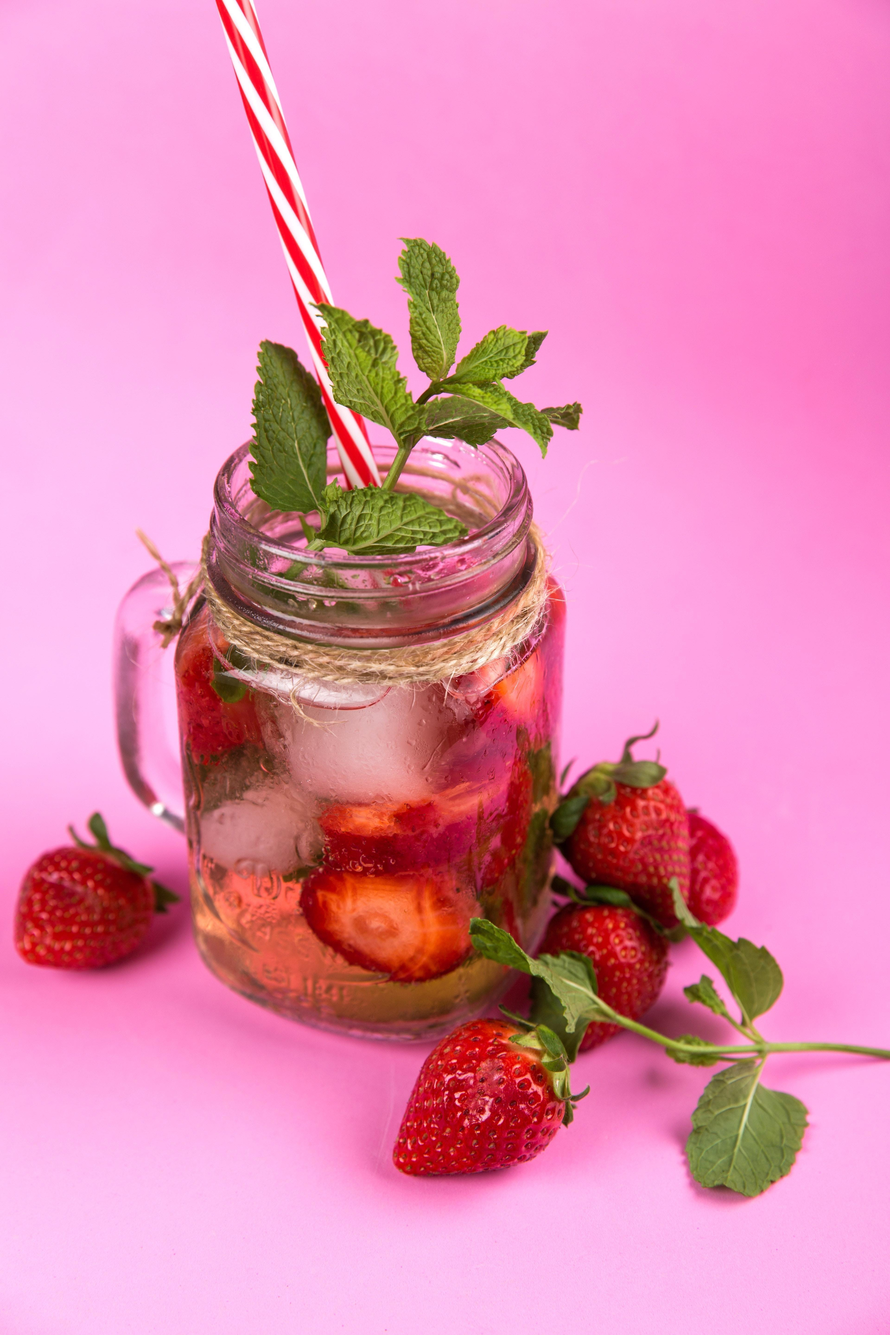glass-mug: (103, 392, 576, 1047)
